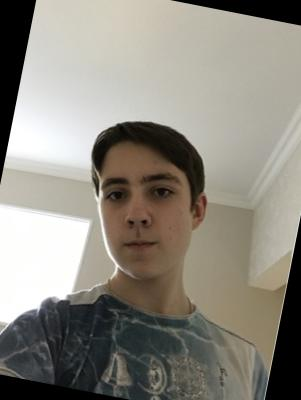without_mask: (81, 161, 202, 289)
